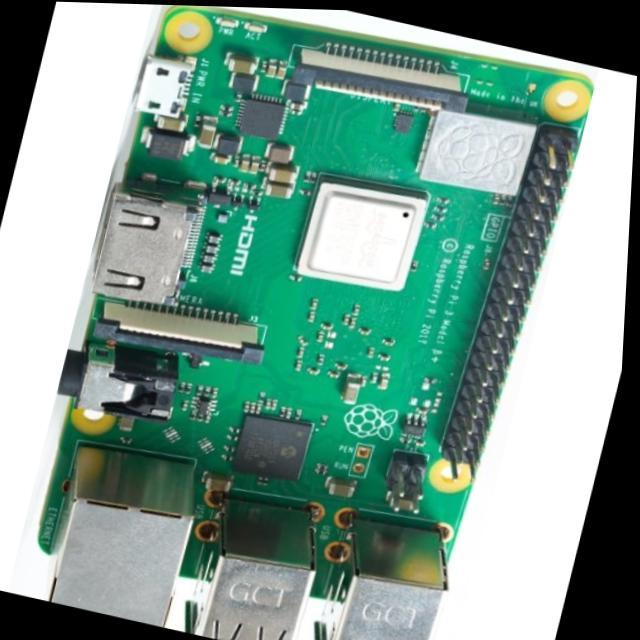Raspberry Pi 3 B-: (41, 9, 592, 640)
